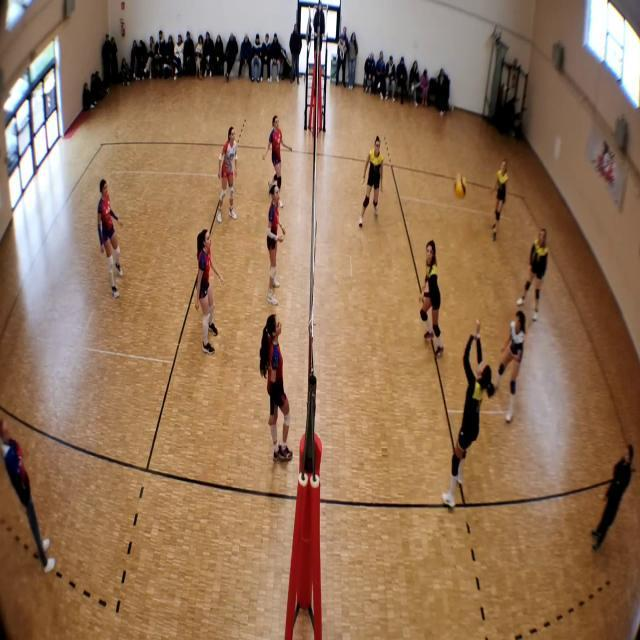volleyball: (454, 176, 468, 200)
